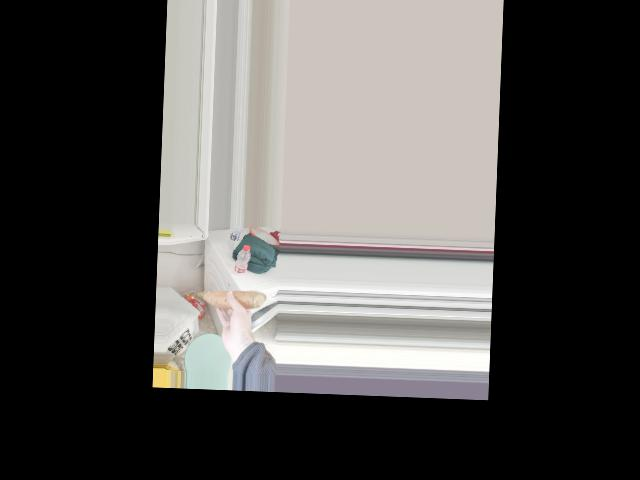sweet_potato: (199, 289, 259, 309)
